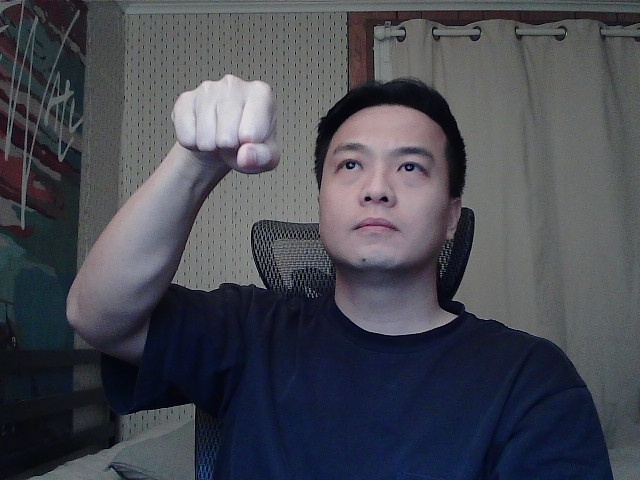Yes: (143, 62, 306, 194)
